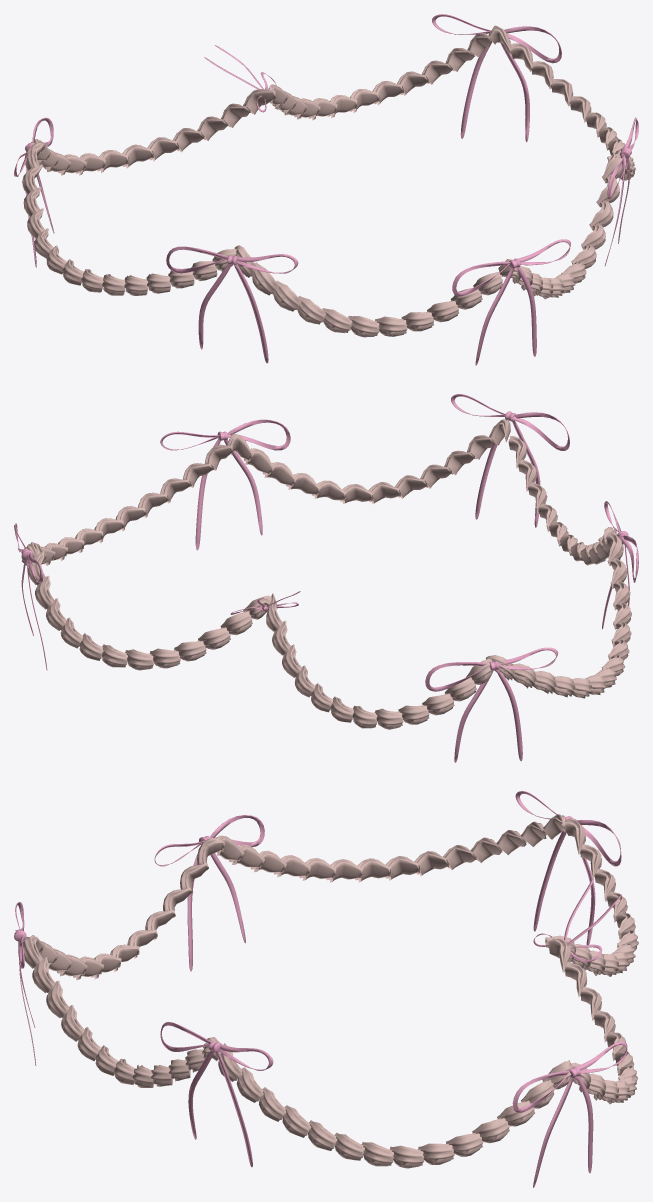
File: heart_cake_decoration_1.glb
The picture shows the model from 3 angles, top to bottom: view 1: azimuth 30°, elevation 25°; view 2: azimuth 150°, elevation 25°; view 3: azimuth 270°, elevation 25°; orthographic projection. The views are drawn at different scales.
Visible parts, largest first — view 1: decoration_top_04, bun_01, bun_02, bun_04, bun_03, bun_06; view 2: decoration_top_04, bun_06, bun_03, bun_02, bun_01, bun_04; view 3: decoration_top_04, bun_04, bun_03, bun_06, bun_01, bun_07, bun_02.
Part boxes in pixels (<box>): decoration_top_04: <box>22,25,635,337</box>; bun_01: <box>166,246,298,363</box>; bun_02: <box>452,239,570,365</box>; bun_04: <box>432,14,561,142</box>; bun_03: <box>605,117,638,265</box>; bun_06: <box>14,117,54,267</box>; decoration_top_04: <box>21,419,631,729</box>; bun_06: <box>425,647,558,762</box>; bun_03: <box>160,419,290,550</box>; bun_02: <box>451,394,569,527</box>; bun_01: <box>602,501,638,629</box>; bun_04: <box>14,523,47,669</box>; decoration_top_04: <box>21,814,638,1168</box>; bun_04: <box>512,1041,627,1187</box>; bun_03: <box>160,1022,273,1166</box>; bun_06: <box>515,791,621,944</box>; bun_01: <box>154,815,264,971</box>; bun_07: <box>533,878,621,961</box>; bun_02: <box>14,902,36,1065</box>.
Bounding box in the file's own units: 4.2 × 1.03 × 3.69.
